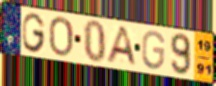0: (80, 19, 108, 65)
9: (169, 31, 193, 77)
A: (104, 25, 139, 68)
G: (21, 11, 47, 54), (141, 29, 166, 72)
O: (48, 15, 75, 58)
